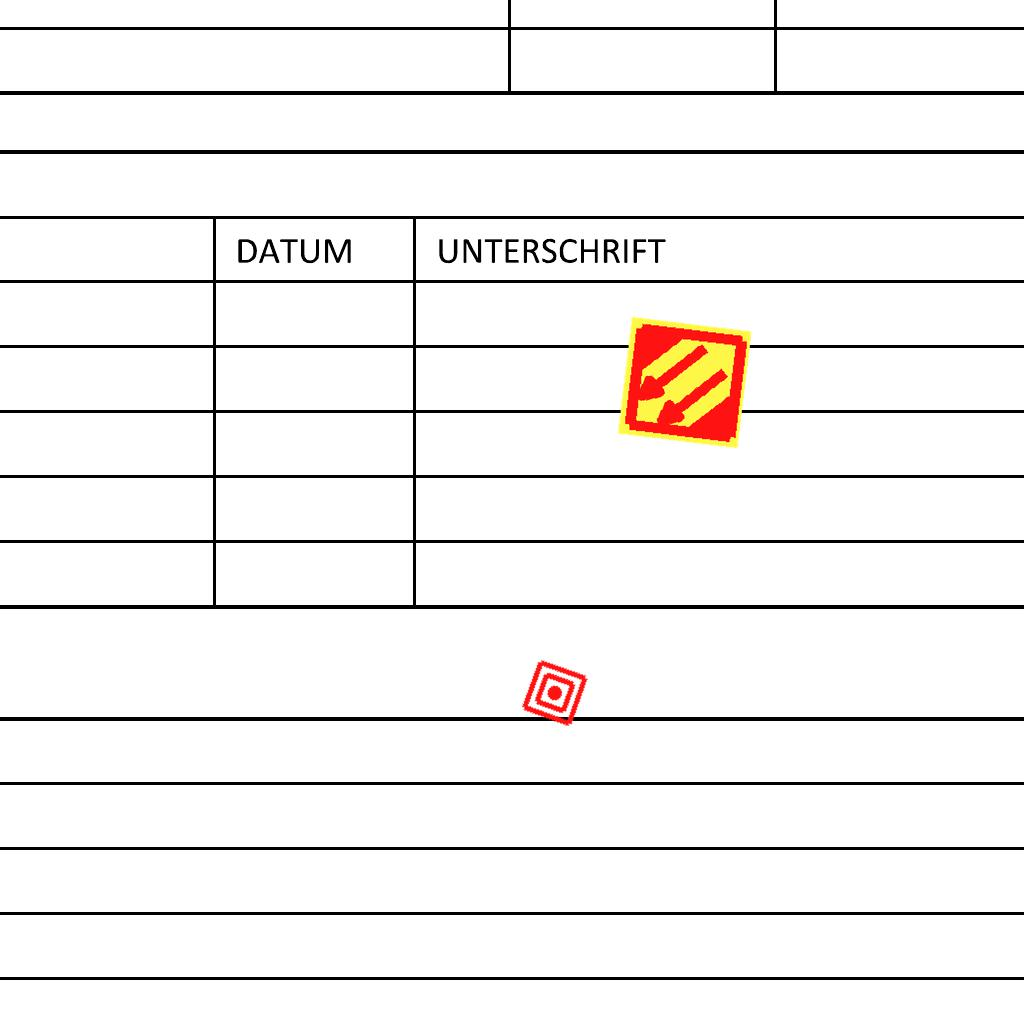ASR_Ansaugrauchmelder: (614, 312, 755, 453)
NAM-Nichtautomatischer_Melder: (519, 657, 591, 729)
